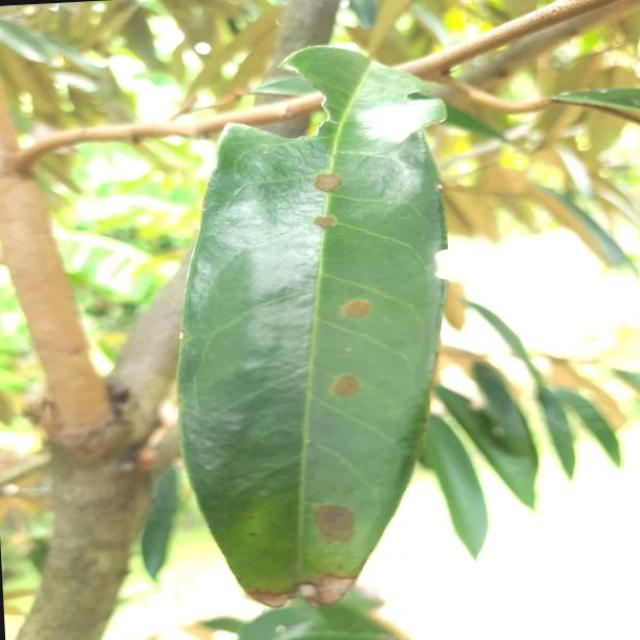Algal Leaf Spot: (162, 35, 476, 623)
